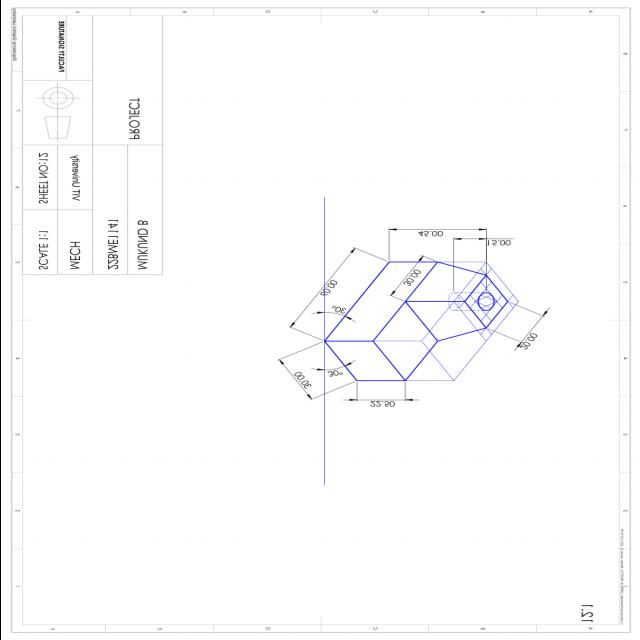Drawings: (273, 221, 556, 411)
